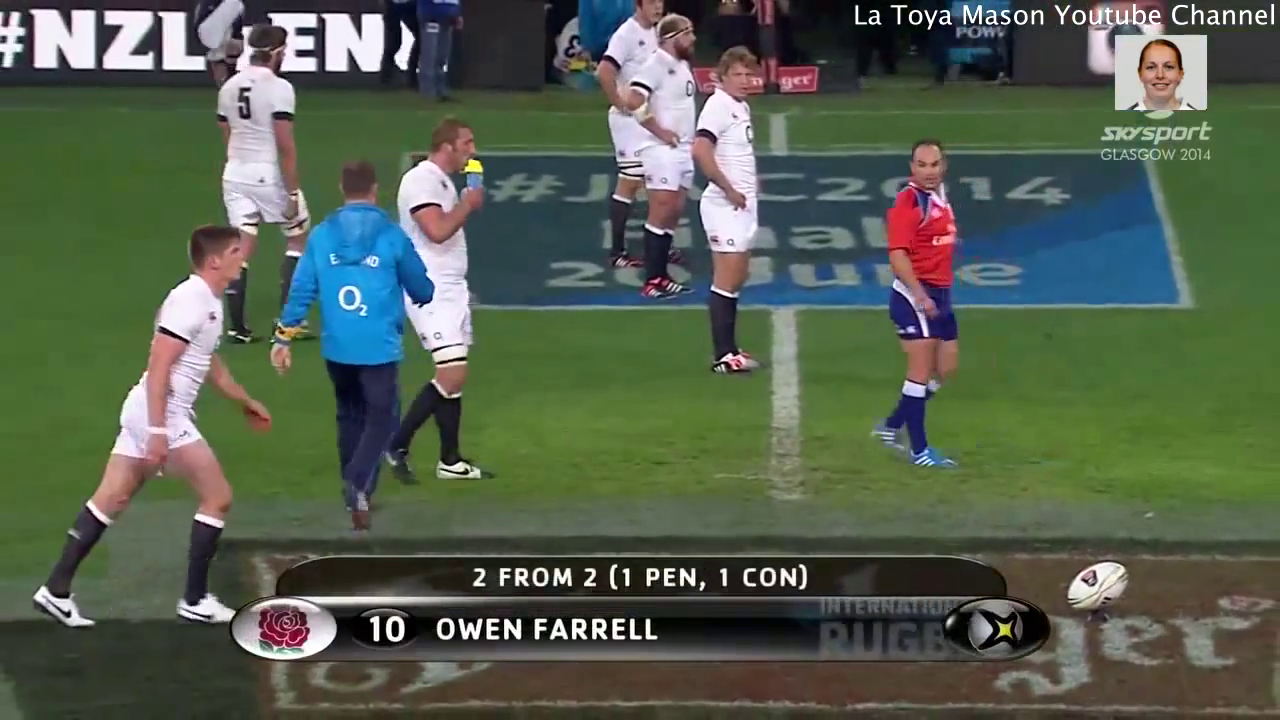ball: (1052, 540, 1142, 632)
player: (25, 220, 266, 639), (289, 158, 428, 536), (195, 17, 342, 344), (383, 111, 497, 477), (868, 134, 983, 482), (693, 44, 772, 380), (630, 8, 705, 312), (599, 1, 665, 275)
